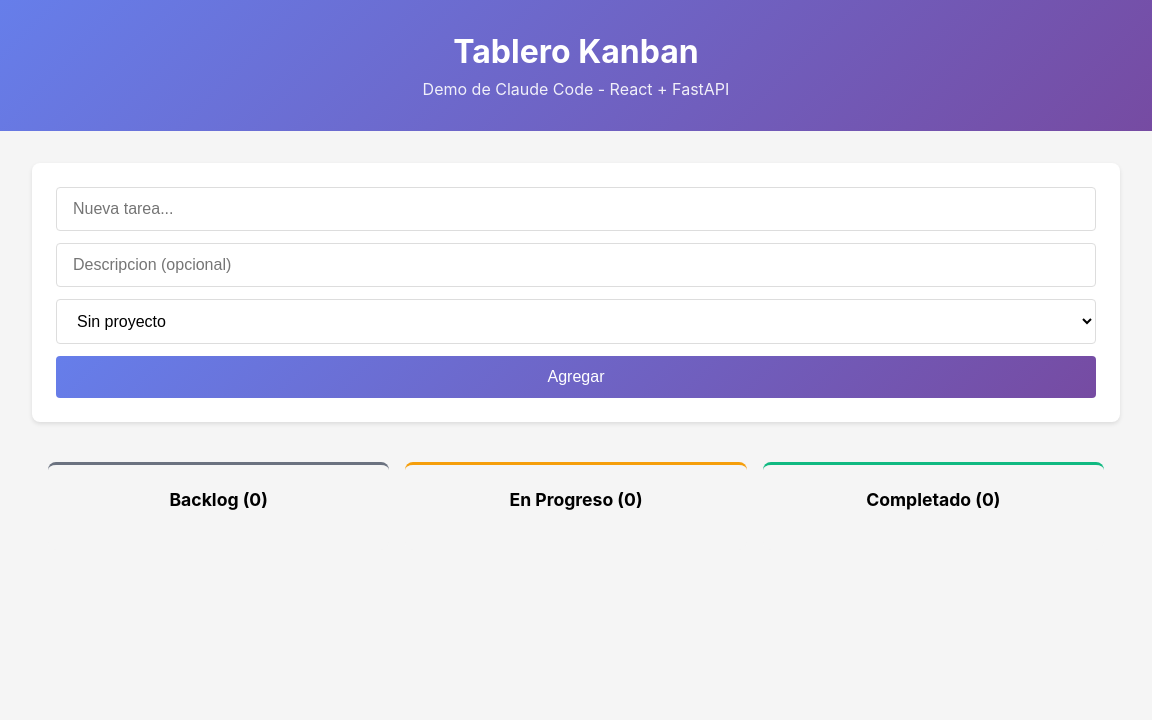
Scenario: App › Crear tarea › muestra error si falla la creación
The width and height of the screenshot is (1152, 720).
In the field with placeholder "Nueva tarea...": point(576, 209) [56,187,1096,231], type "Test"
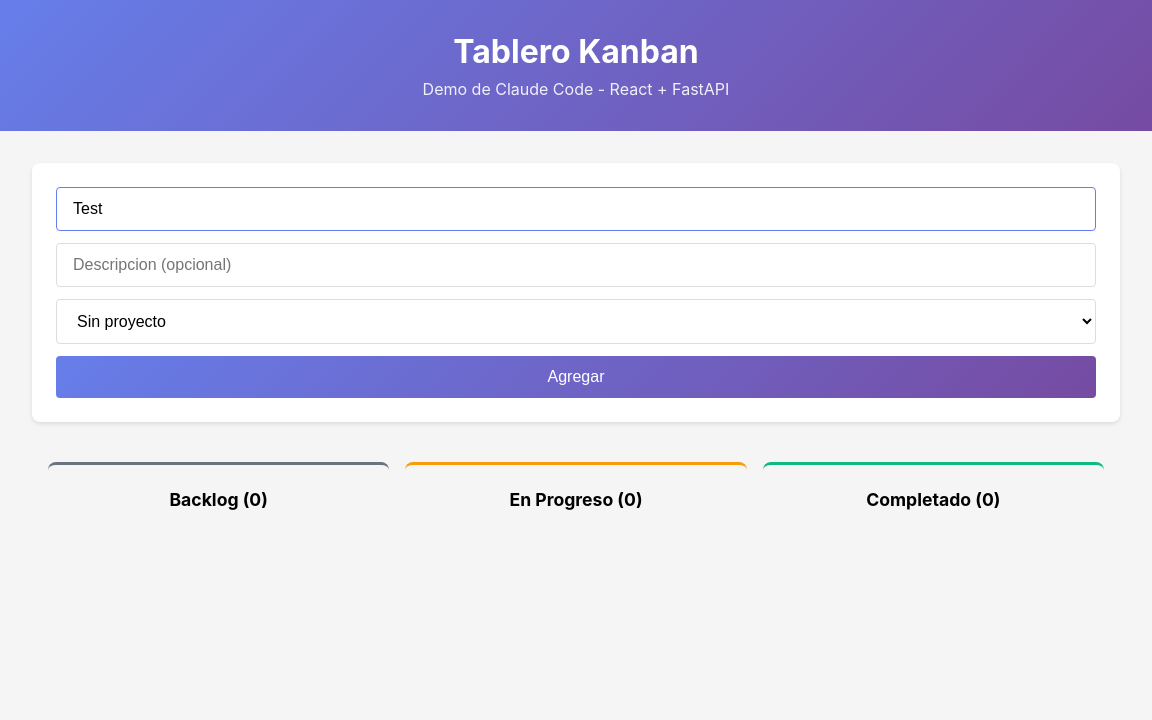
Click the button "Agregar": point(576, 377) [56,356,1096,398]
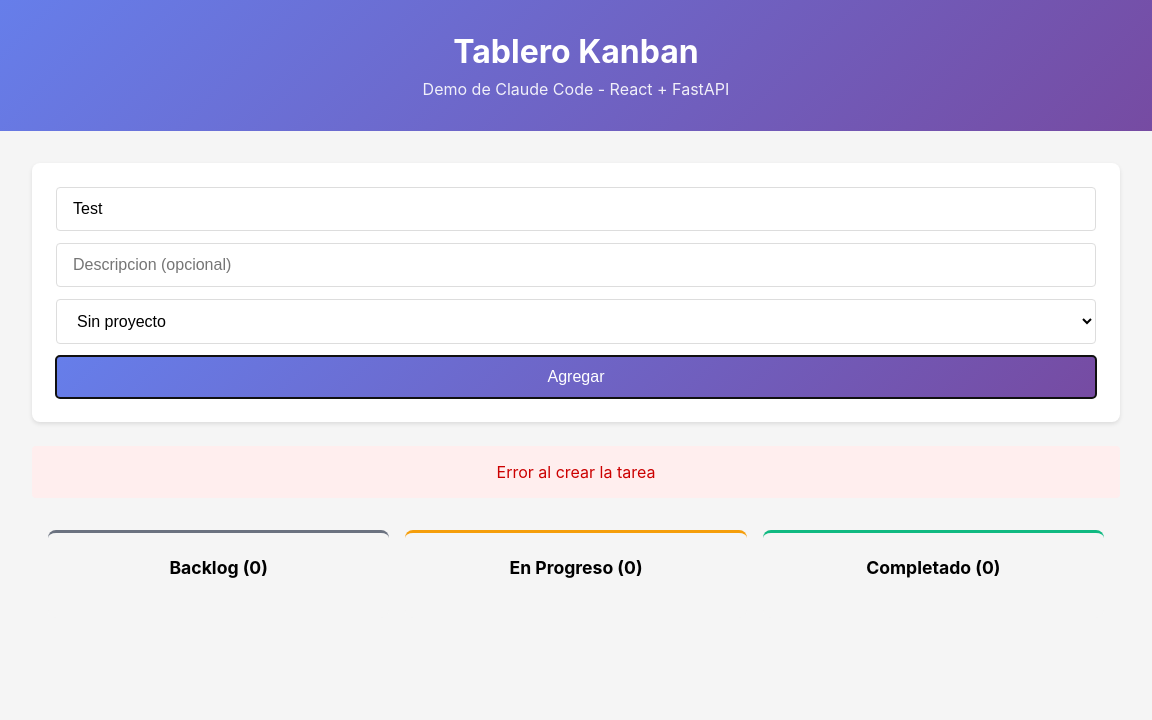
Now the text "Error al crear la tarea" is shown, box [32,446,1120,498]
